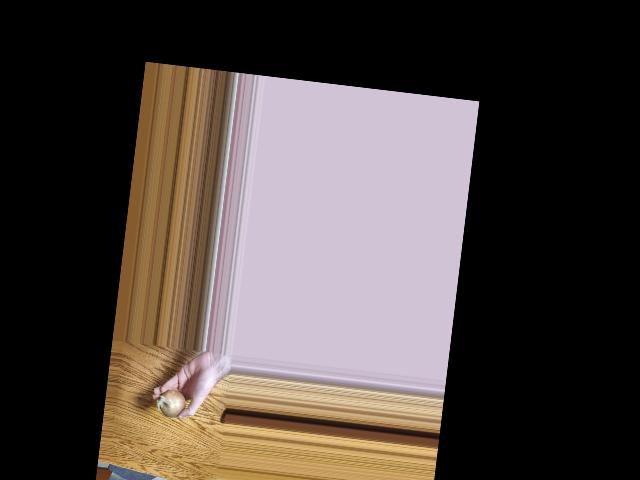onion: (158, 386, 187, 418)
